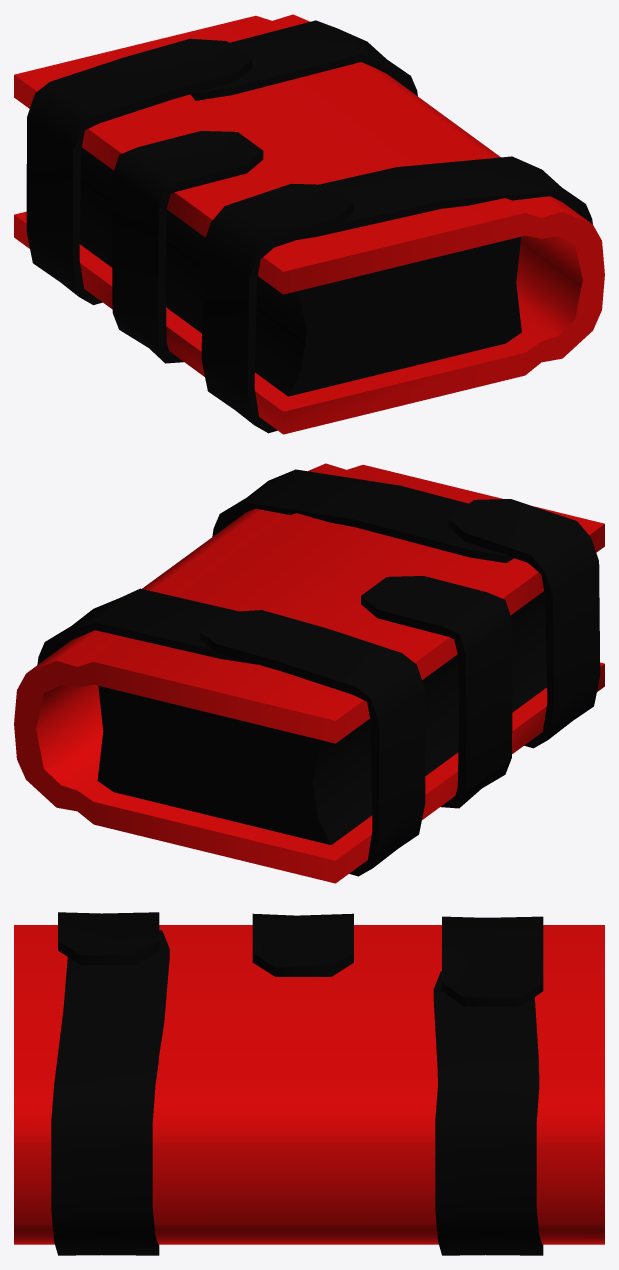
Rendered from Book_J.fbx.
3 renders of one model, top to bottom at view 1: azimuth 30°, elevation 25°; view 2: azimuth 150°, elevation 25°; view 3: azimuth 270°, elevation 25°, orthographic. The views are drawn at different scales.
Visible parts, largest first — view 1: U_Book_J; view 2: U_Book_J; view 3: U_Book_J.
Boxes of the visible parts, x1,y1,x2,y2 form: U_Book_J: (14, 14, 604, 434); U_Book_J: (14, 463, 604, 883); U_Book_J: (14, 912, 604, 1255).
Size of the model in its own units: 44.17 by 23.82 by 58.45.
